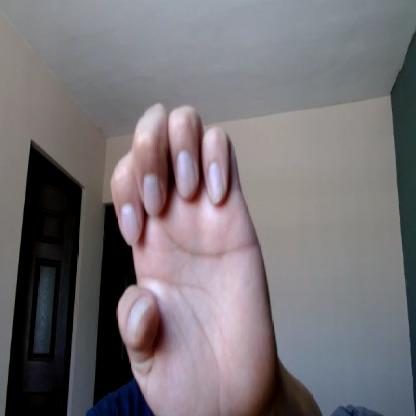E: (110, 102, 276, 416)
